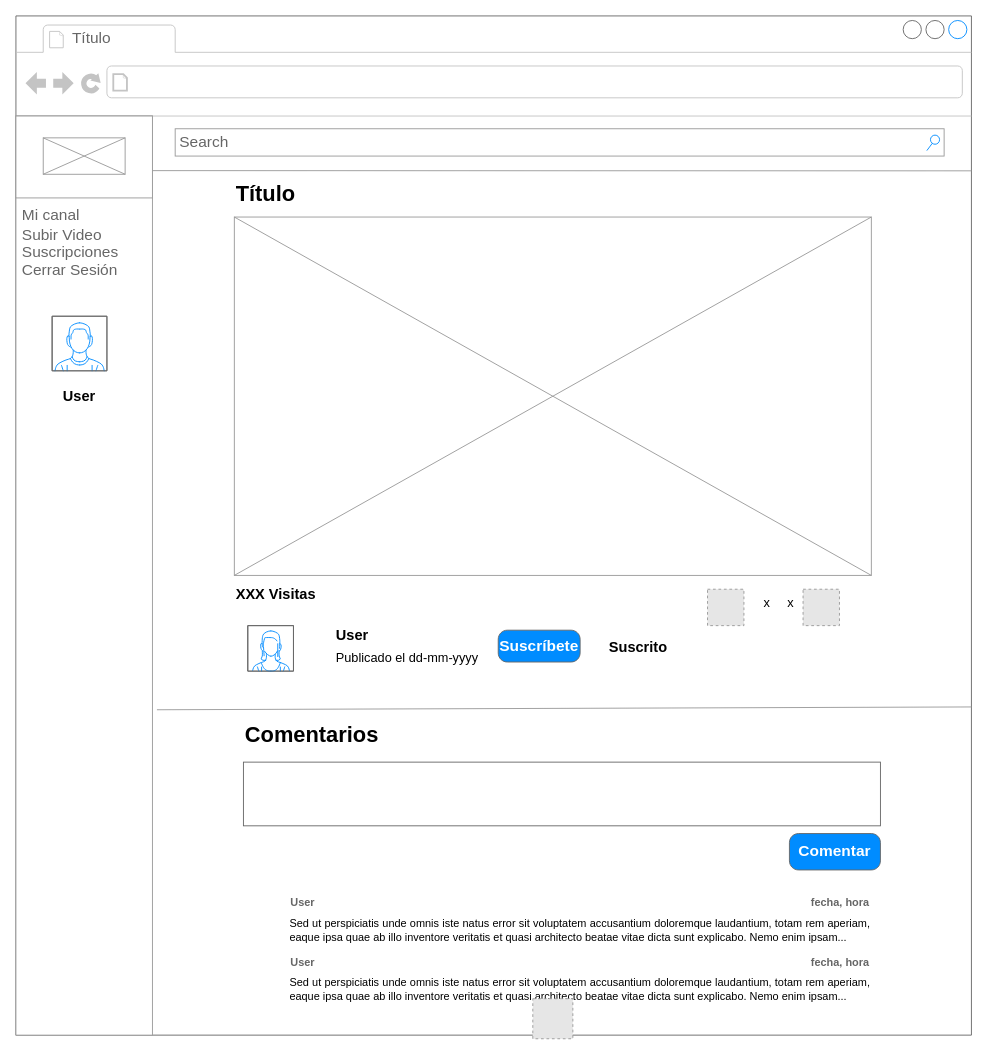
Image size: 988x1055. Some labels were removed from this diagram. Grey dashed boxes stand in for pictures. Each missing label, with the centre of its shape:
"https://www.tube.com" belongs at (x=247, y=82).
"Logo" belongs at (x=83, y=155).
